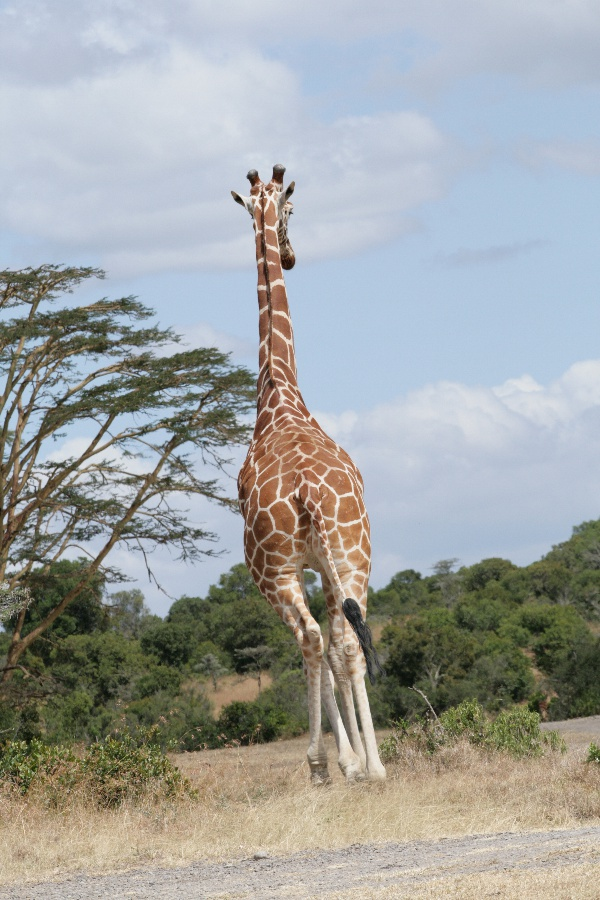giraffe: (221, 152, 396, 798)
